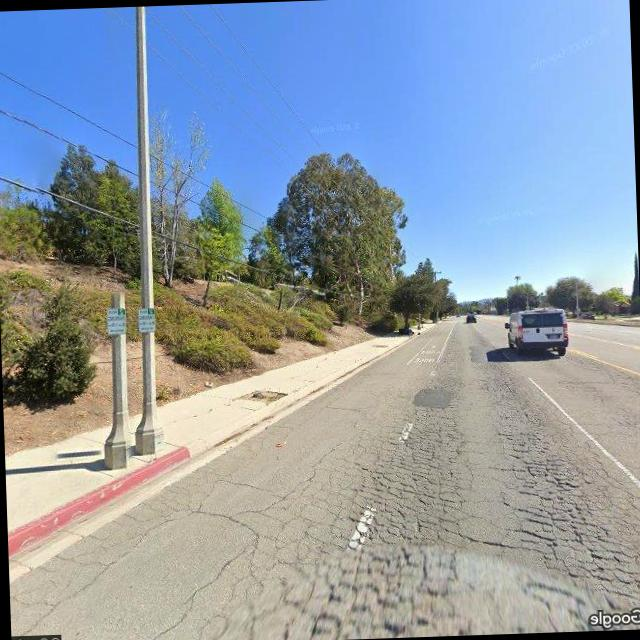crack: (153, 396, 640, 640)
